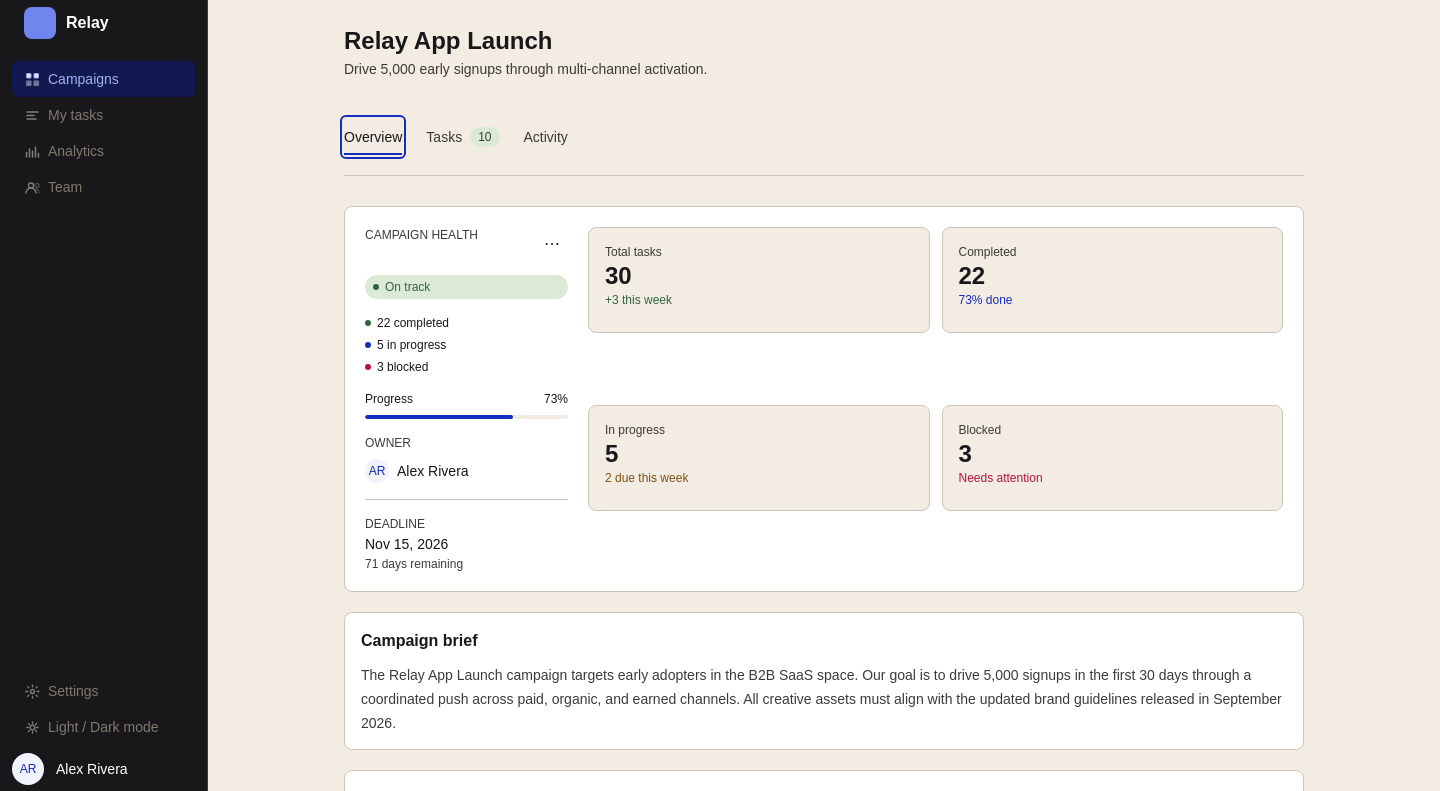
Scenario: RelayCampaign › supports a real-browser keyboard workflow through tabs, filters, and task selection
Press Arrowright
(page scrolled)
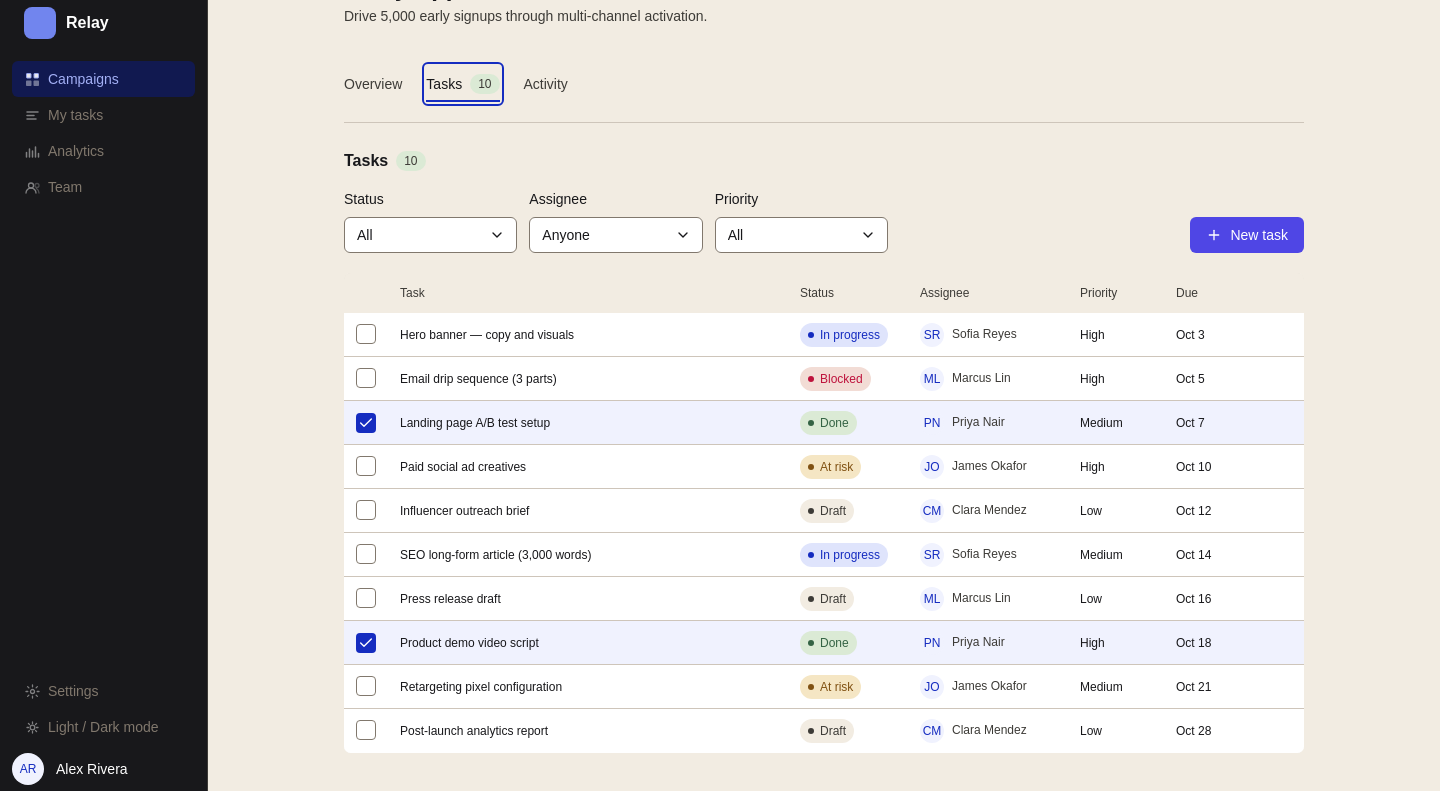
Check: the table is shown, box [344, 273, 1304, 753]
Press Tab
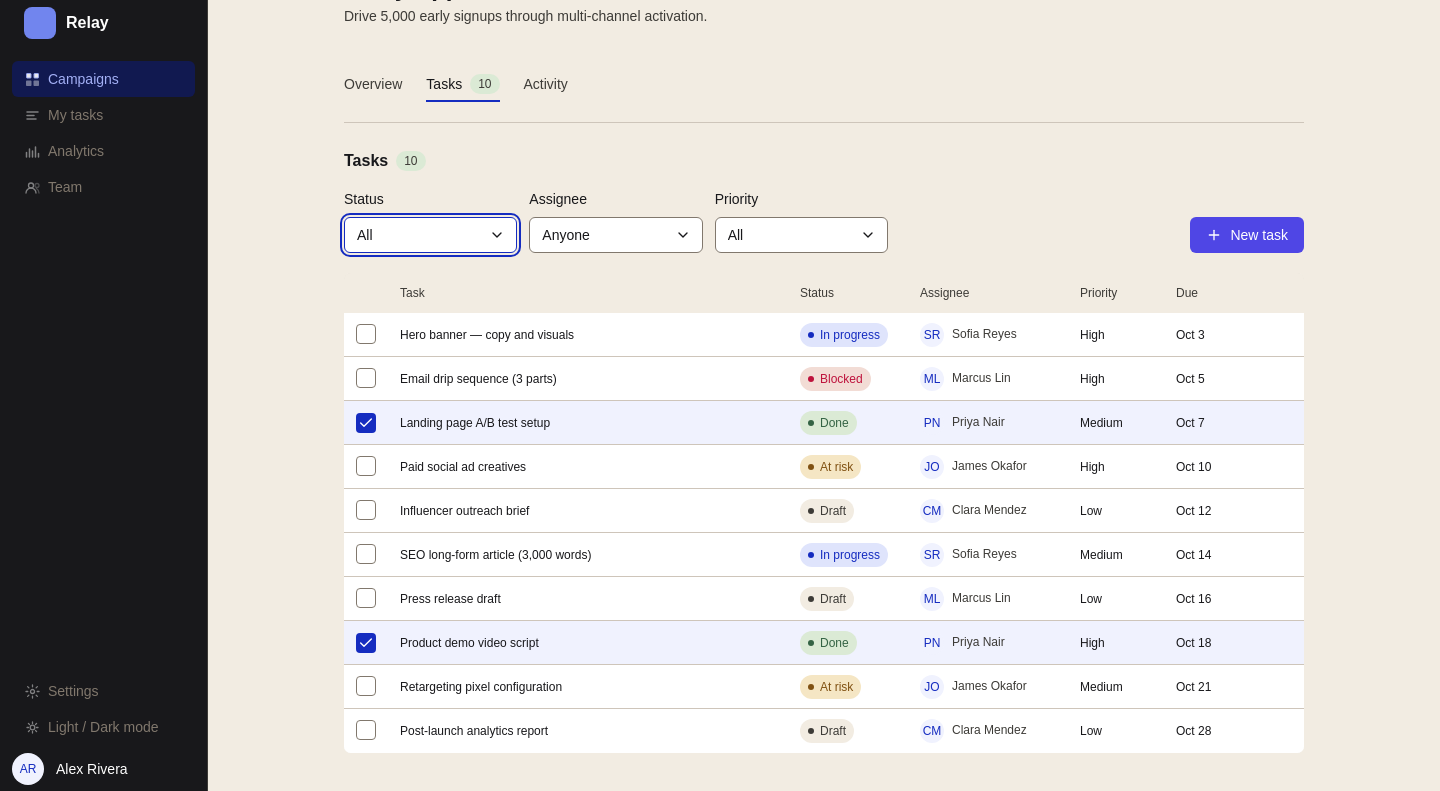
Press Shift+Tab
Select "Blocked" in the dropdown labelled "Status" at (431, 235), box [344, 217, 517, 253]
(page scrolled)
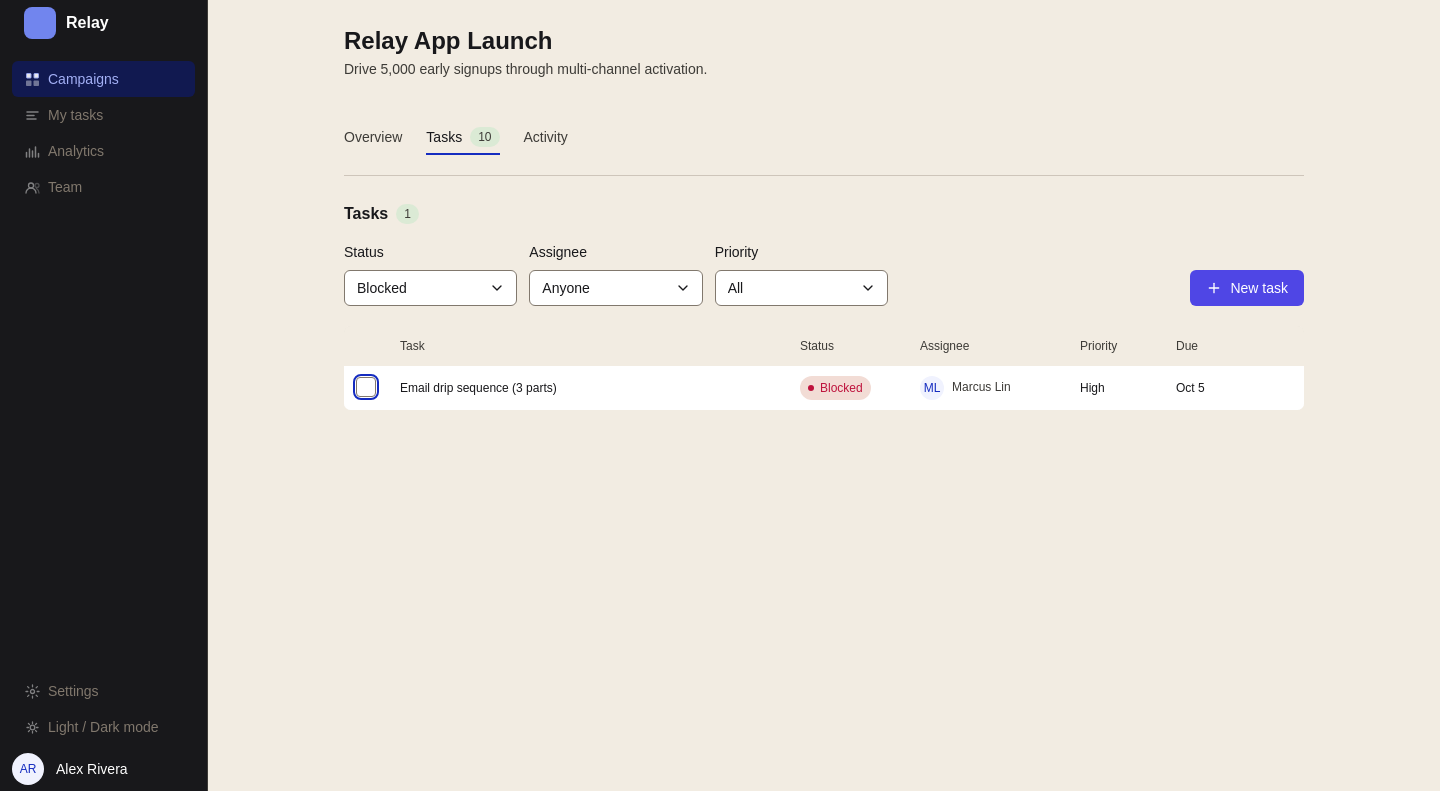
Check: the text named "1 visible tasks" is shown, box [396, 204, 419, 224]
Type keys "[Space]"
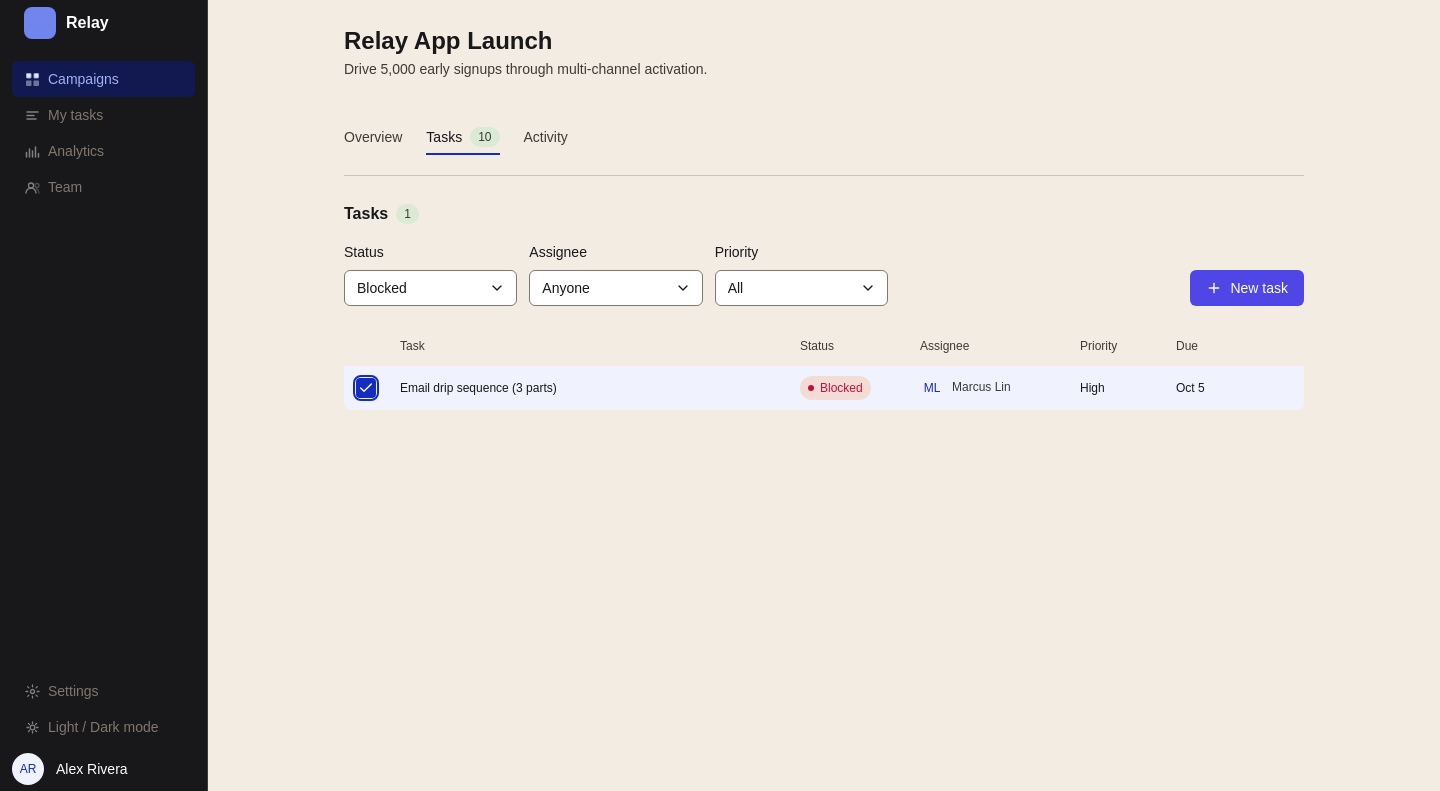
Check: the checkbox named "Select Email drip sequence (3 parts)" is checked, box [356, 376, 376, 400]
